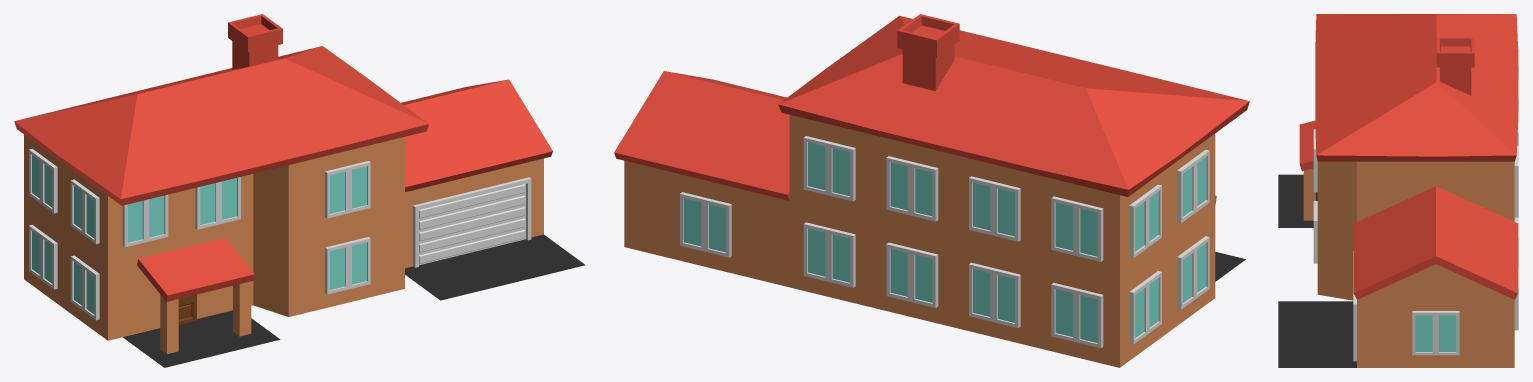
The model's file is home1.fbx.
3 renders of one model, left to right at view 1: azimuth 30°, elevation 25°; view 2: azimuth 150°, elevation 25°; view 3: azimuth 270°, elevation 25°, orthographic. The views are drawn at different scales.
Visible parts, largest first — view 1: home1; view 2: home1; view 3: home1.
Part boxes in pixels (<box>): home1: <box>14,14,585,367</box>; home1: <box>614,14,1249,367</box>; home1: <box>1278,14,1518,367</box>.
Bounding box in the file's own units: 624 × 300 × 305.
